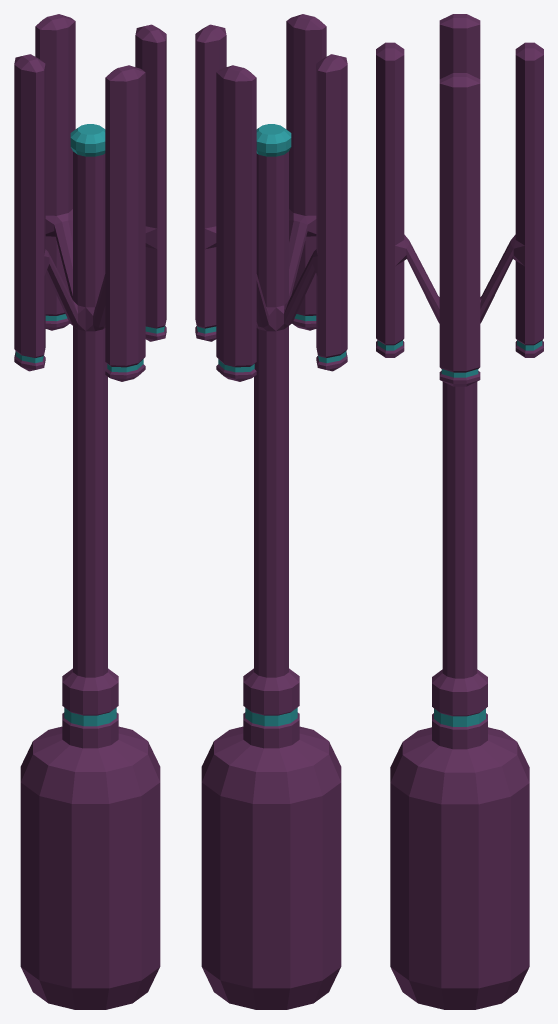
File: Radar.fbx
The picture shows the model from 3 angles, left to right: view 1: azimuth 30°, elevation 25°; view 2: azimuth 150°, elevation 25°; view 3: azimuth 270°, elevation 25°; orthographic projection.
Parts seen in each view (by area): view 1: Radar; view 2: Radar; view 3: Radar.
Part boxes in pixels (<box>): Radar: <box>14,14,166,1009</box>; Radar: <box>195,14,347,1009</box>; Radar: <box>376,14,543,1009</box>.
Bounding box in the file's own units: 41.04 × 257 × 41.04.
